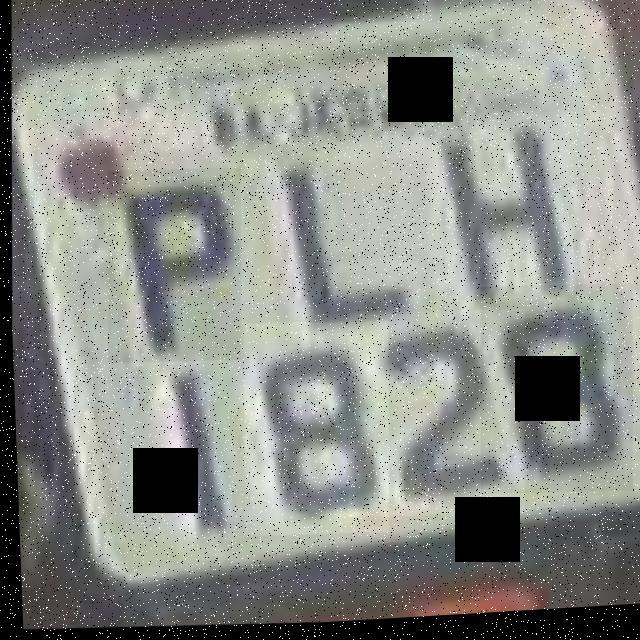1: (142, 347, 247, 546)
2: (338, 309, 527, 527)
8: (470, 286, 635, 505)
B: (234, 320, 391, 544)
H: (420, 113, 580, 313)
J: (243, 133, 428, 352)
P: (100, 165, 244, 369)
